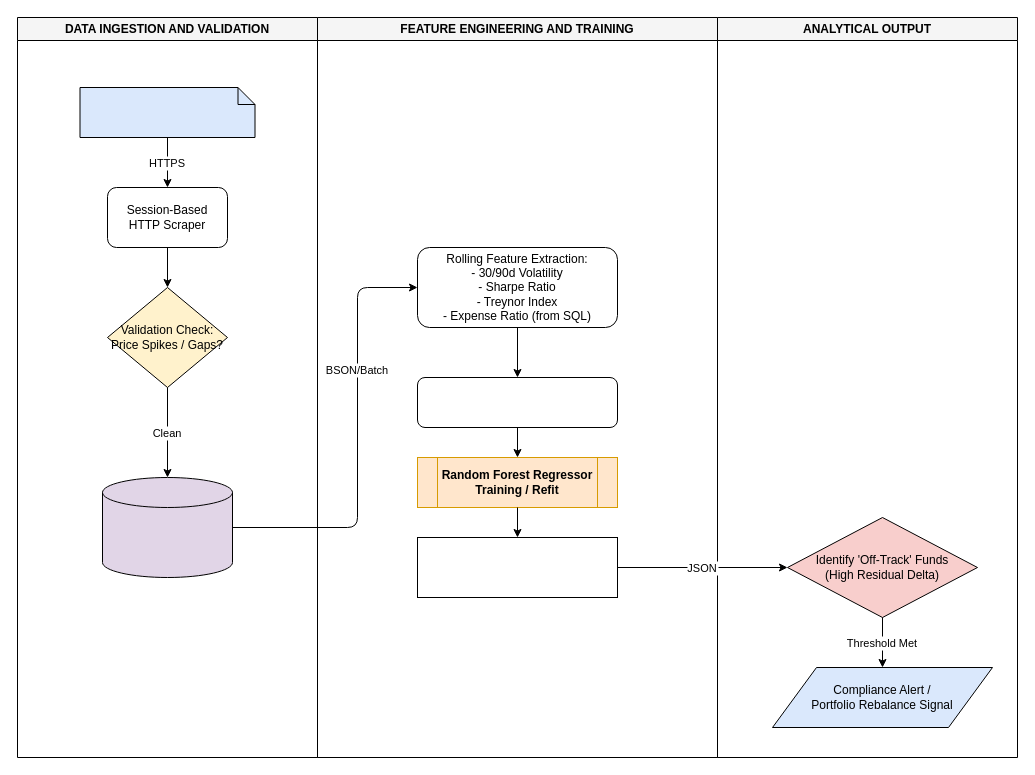
Image size: 1035x775. Some labels were removed from this diagram. Here are the shapes that lost their labels. From the top down, the centre of each, then its label:
At pixel 167 112: "Trigger: AMFI Daily CSV (5-Year Historical + Daily)".
At pixel 517 402: "TimeSeriesSplit (Cross-Validation Loop)".
At pixel 167 527: "Cleaned Time-Series Store (MongoDB)".
At pixel 517 567: "Output: Prediction Residuals (Actual NAV vs Predicted)".
